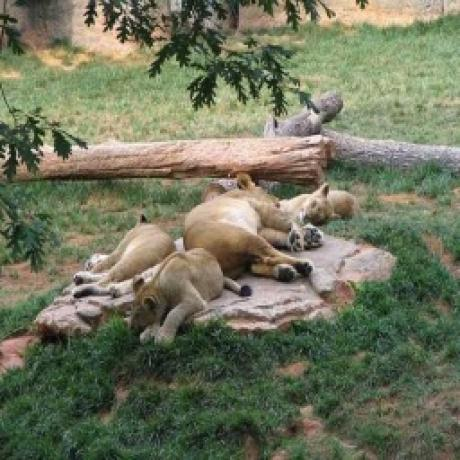Lion: (189, 165, 313, 286), (126, 248, 232, 345), (98, 203, 178, 273), (294, 181, 361, 223)
